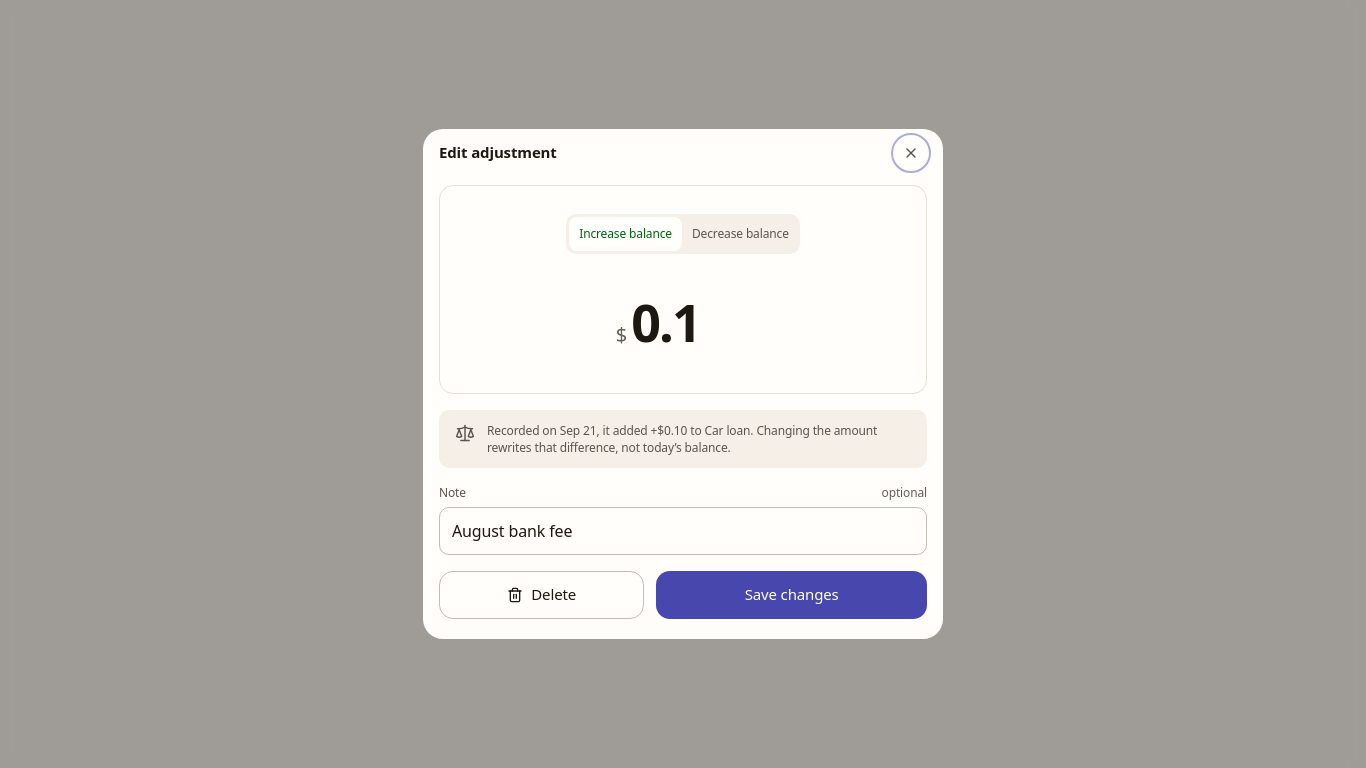
Test: AdjustBalanceSheet, editing one › lets a loan with cents be paid off to the cent from the editing sheet [T-158]
The image size is (1366, 768).
Expected: the text "Recorded on" is shown, [487,422,877,456]
Clear the field named "Amount" at (691, 321), box [631,286,750,357]
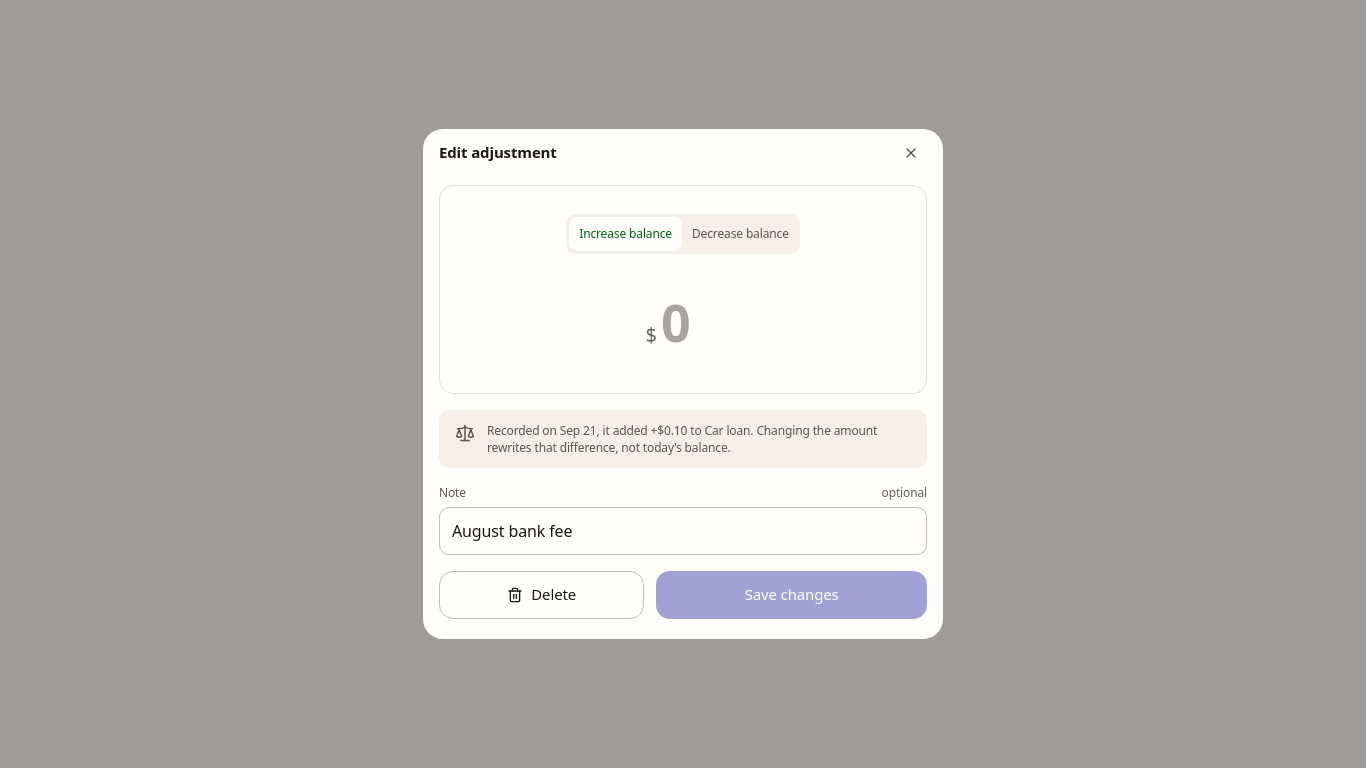
Type "0.46" into the field named "Amount" at (691, 321), box [661,286,720,357]
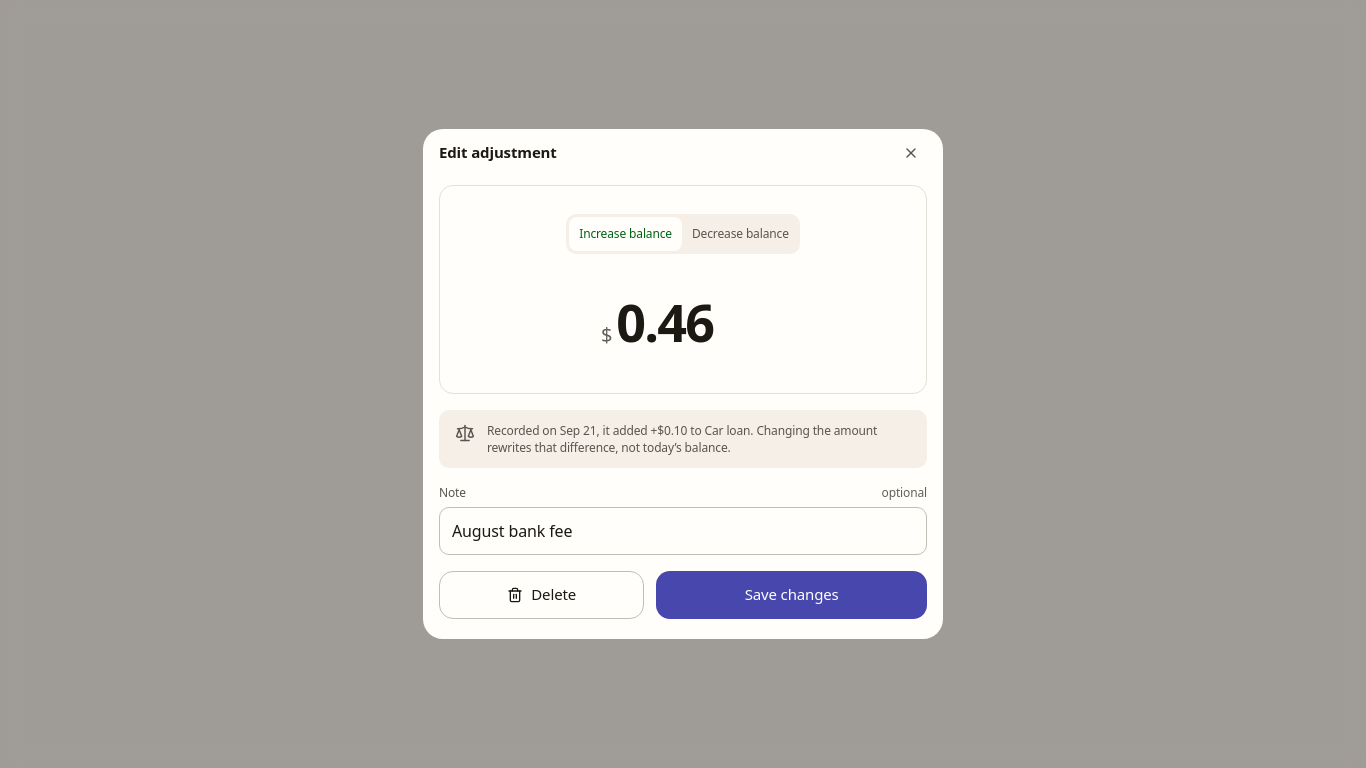
Expected: the text "cannot be paid more than" is not shown
Result: the 2nd button named "Save changes" is enabled at [656,571,927,619]
Clear the field named "Amount" at (691, 321), box [616,286,765,357]
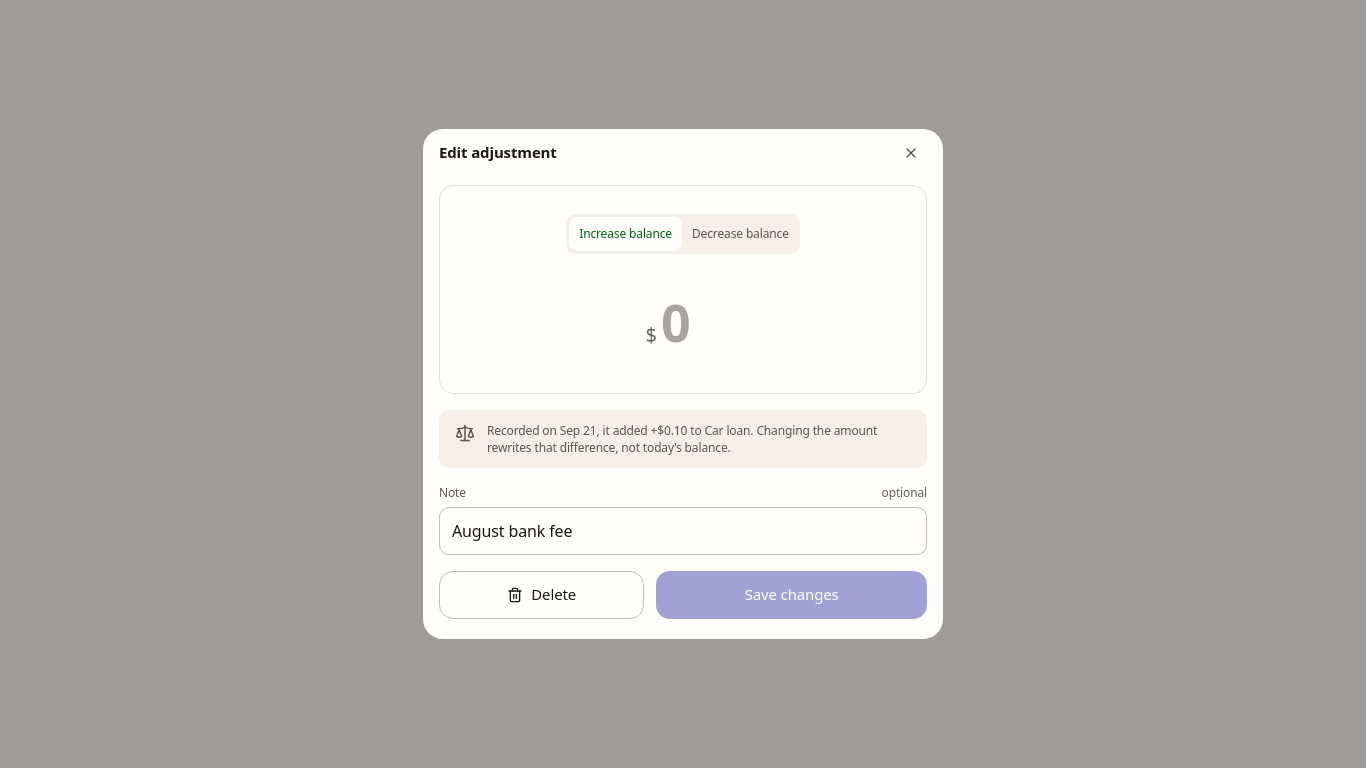
Type "0.47" into the field named "Amount" at (691, 321), box [661,286,720,357]
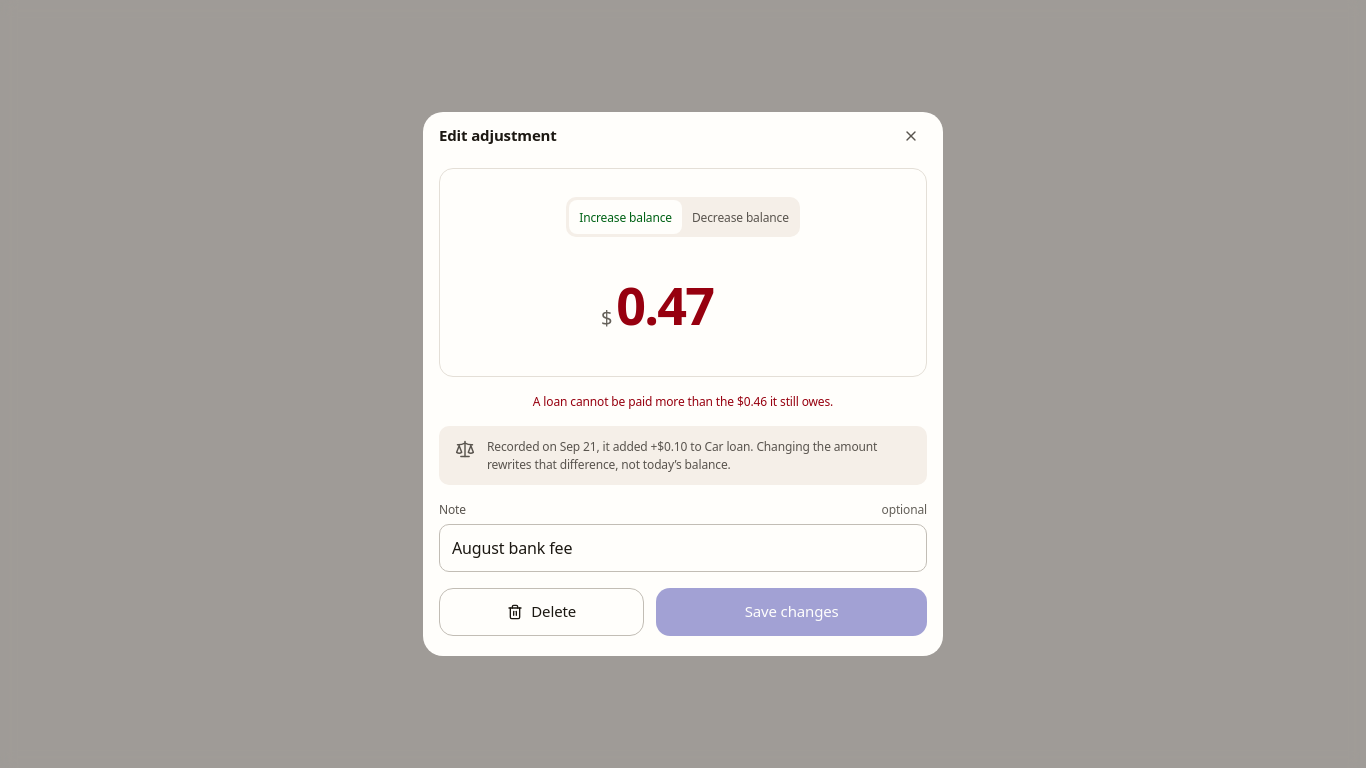
Result: the text "A loan cannot be paid more than the $0.46 it still owes." is shown at [533,393,833,410]
